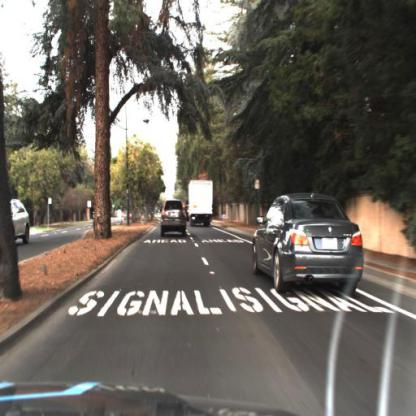car: (252, 194, 367, 297), (186, 177, 219, 231), (1, 199, 32, 247), (159, 200, 189, 243)
truck: (187, 179, 217, 230)
